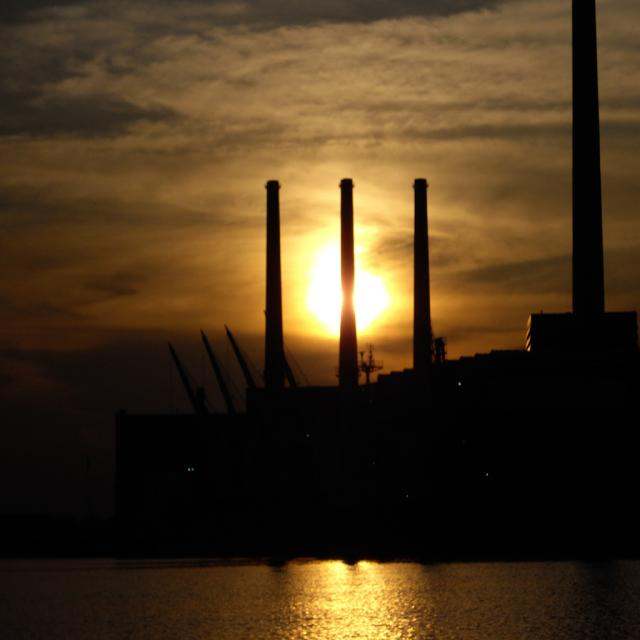no_fire: (221, 180, 503, 382)
